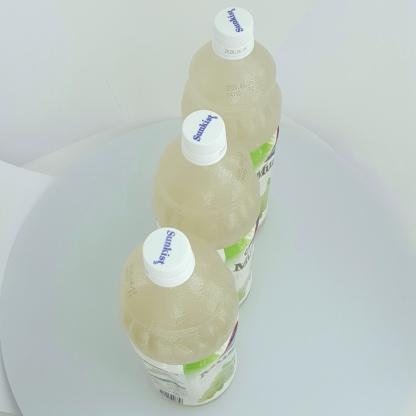-------1-5L: (119, 227, 239, 407)
